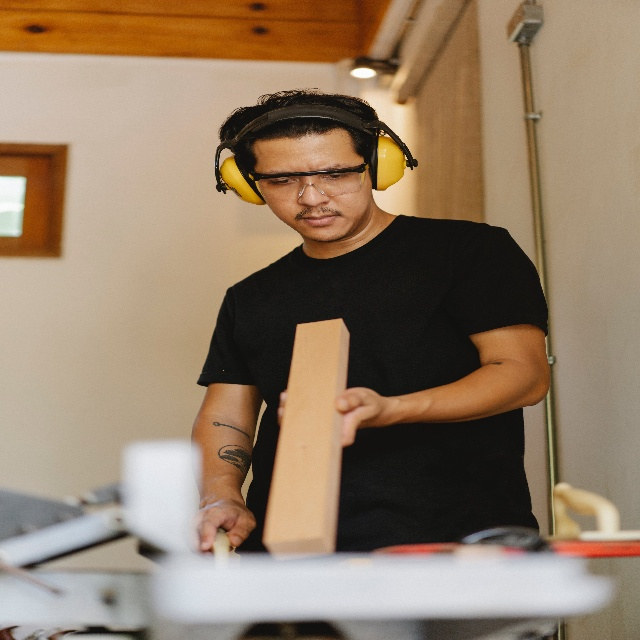Gafas: (248, 161, 370, 200)
Sin_guantes: (189, 496, 256, 552), (335, 385, 384, 446)
